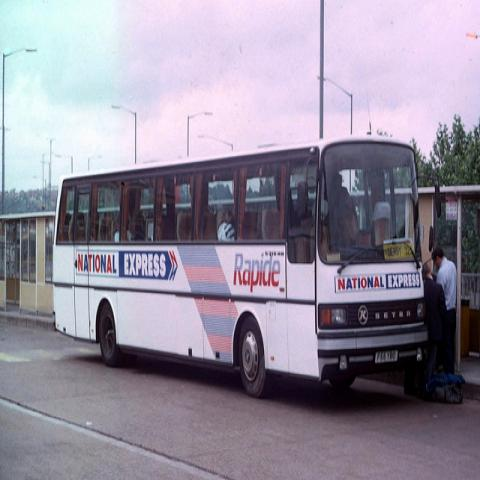bus: (51, 140, 433, 392)
